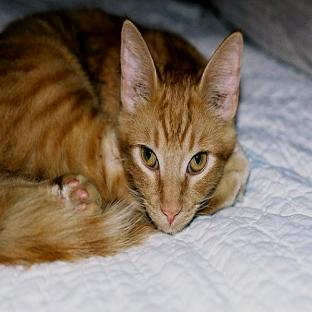Animal: (1, 9, 248, 264)
